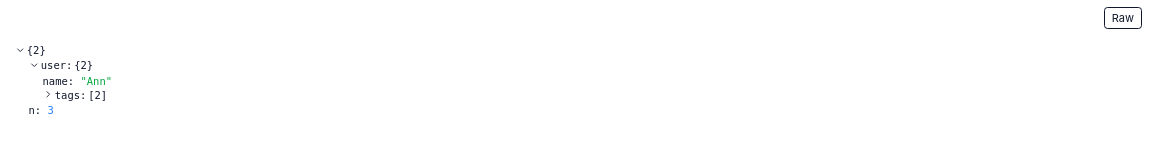
StructuredPreview › renders a collapsible JSON tree
expect the element showing "{2} user: {2} name: \"Ann\" tags: [2] n: 3" shows "\"Ann\"": met, box [80,74,112,86]
Step 1. Click the button "tags: [2]" → (75, 94), box [42,88,107,102]
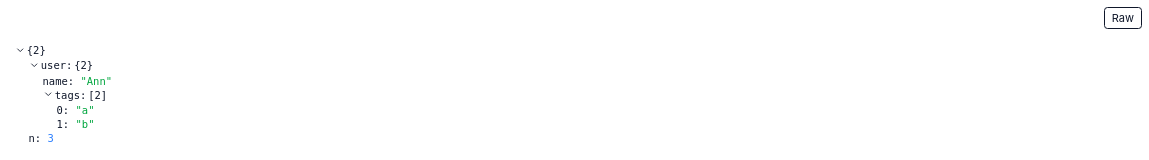
expect the element showing "{2} user: {2} name: \"Ann\" tags: [2] 0: \"a\" 1: \"b\" n: 3" shows "\"b\"": met, box [76,118,94,130]
